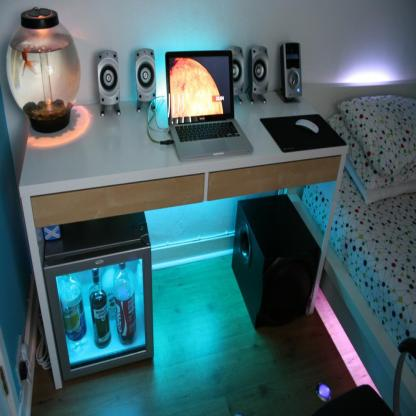board: (165, 51, 254, 162), (60, 272, 88, 354), (113, 261, 137, 344), (89, 268, 112, 347)
